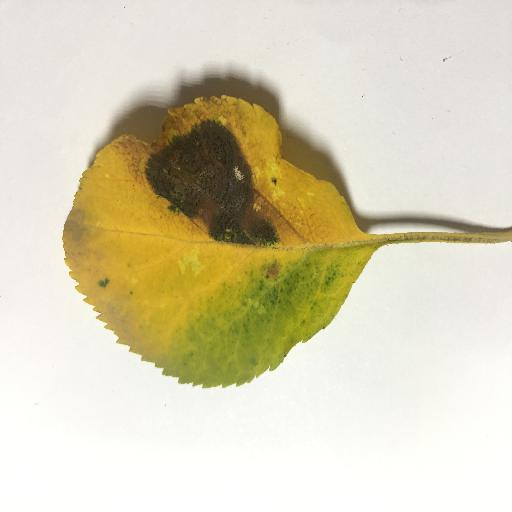Brown_Spot: (147, 127, 292, 243)
